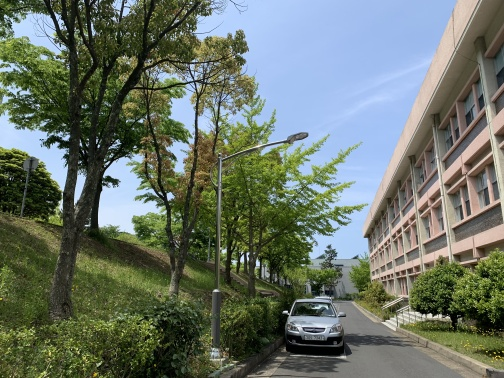College Of Education: (353, 8, 497, 370)
